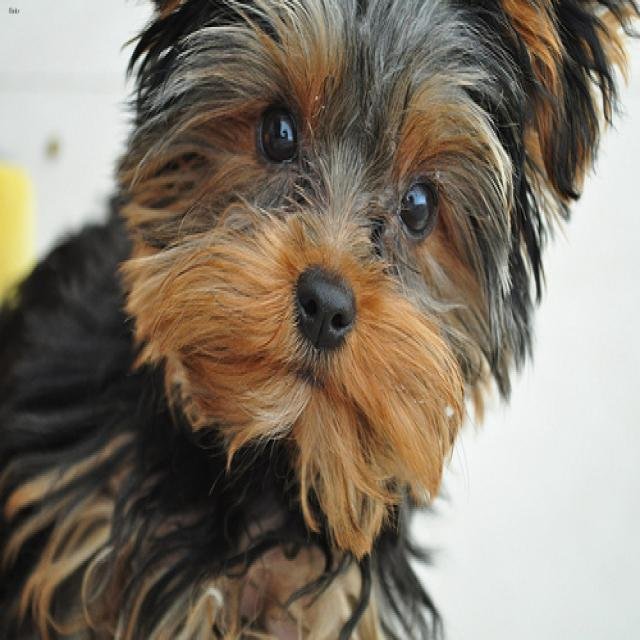dog-yorkshire_terrier: (1, 2, 637, 636)
